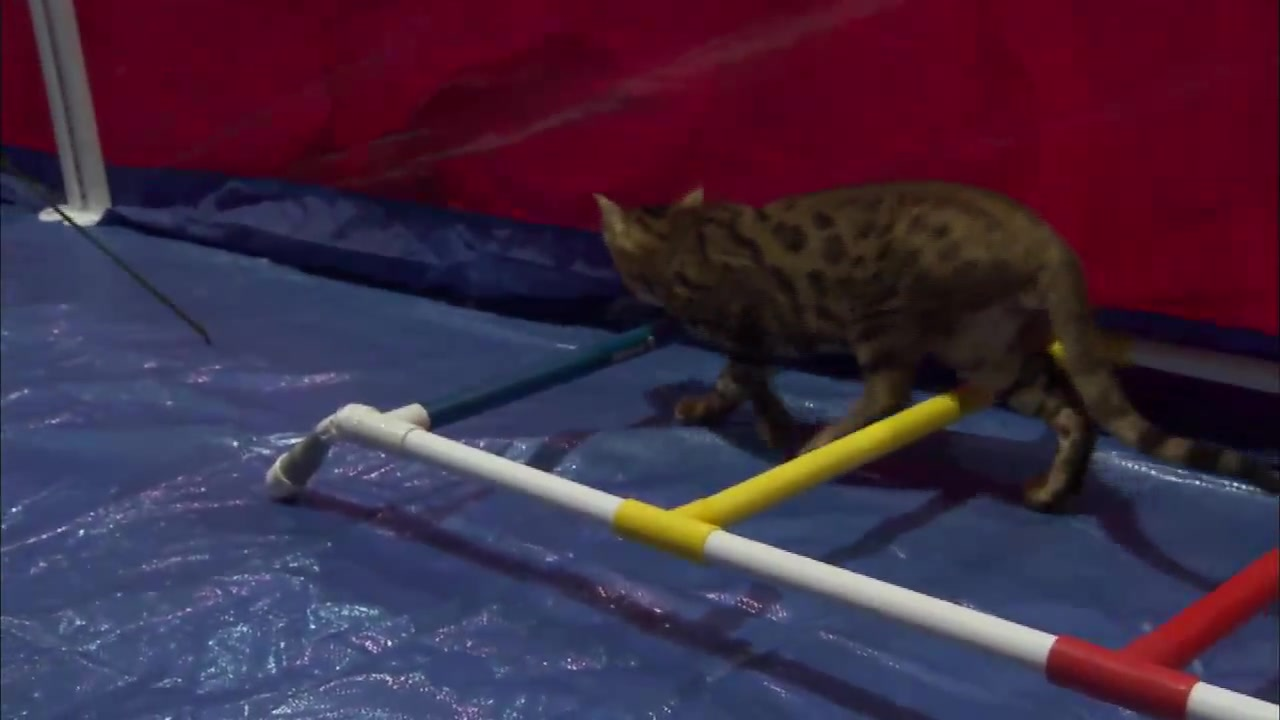cat: (584, 182, 1278, 512)
